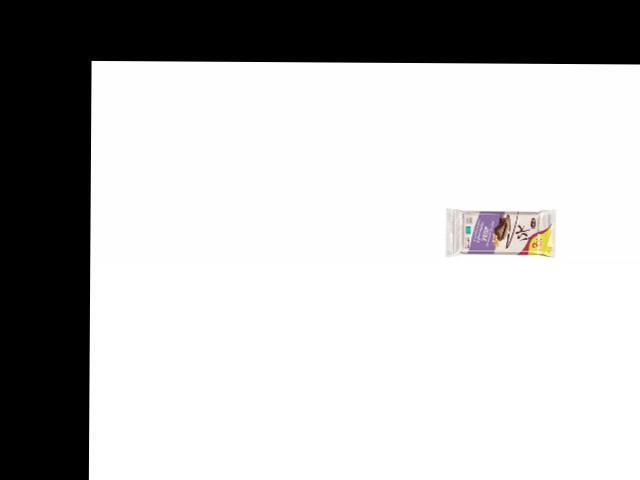chocolate: (444, 204, 558, 260)
